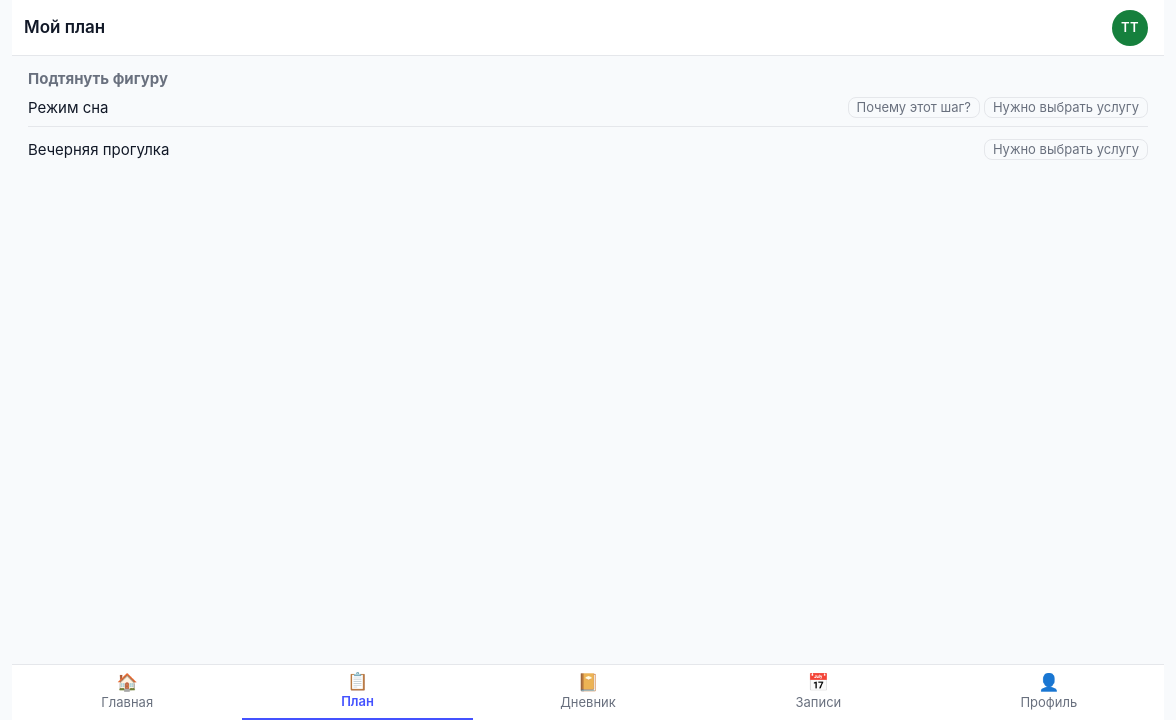
Test: «Мой план»: сохранённый план нового механизма › «Почему этот шаг?» раскрывает слова каталога — и только у шага, где они есть
This screenshot has width=1176, height=720.
Expected: the text "Помогает ложиться и вставать в одно время." is not shown
Click the button "Почему этот шаг?": (914, 108) x1=848 y1=97 x2=980 y2=118
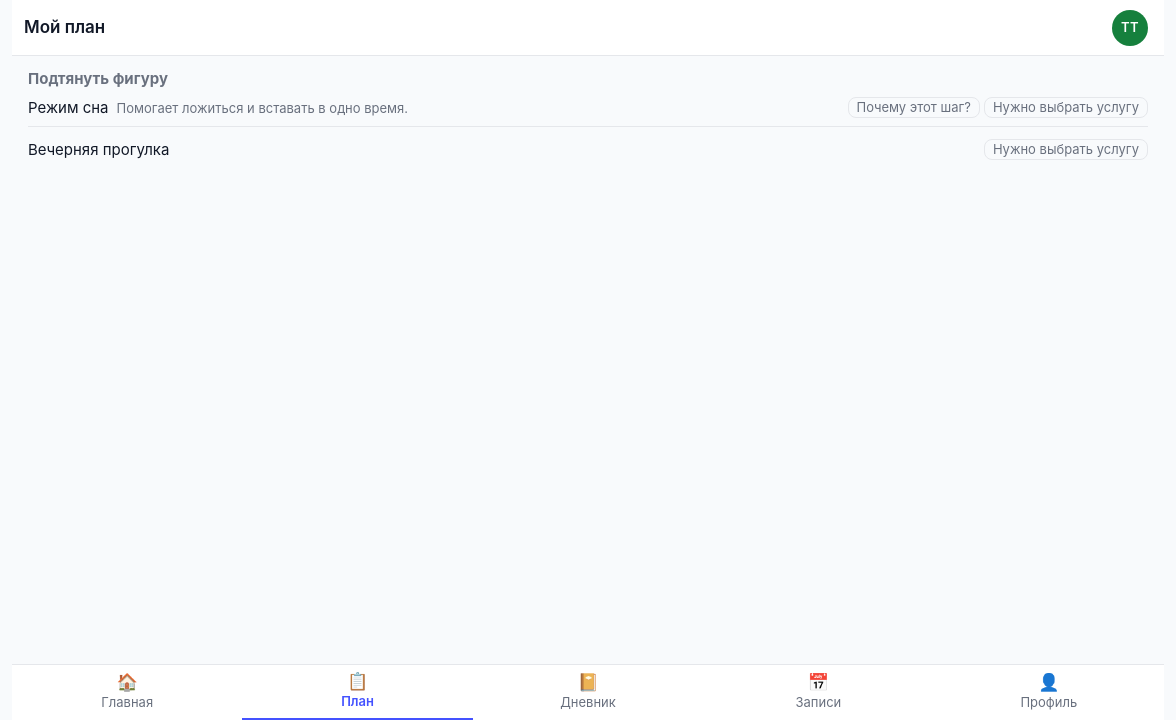
Expected: the text "Помогает ложиться и вставать в одно время." is shown, x1=116 y1=99 x2=408 y2=117
Click the button "Почему этот шаг?": (914, 108) x1=848 y1=97 x2=980 y2=118
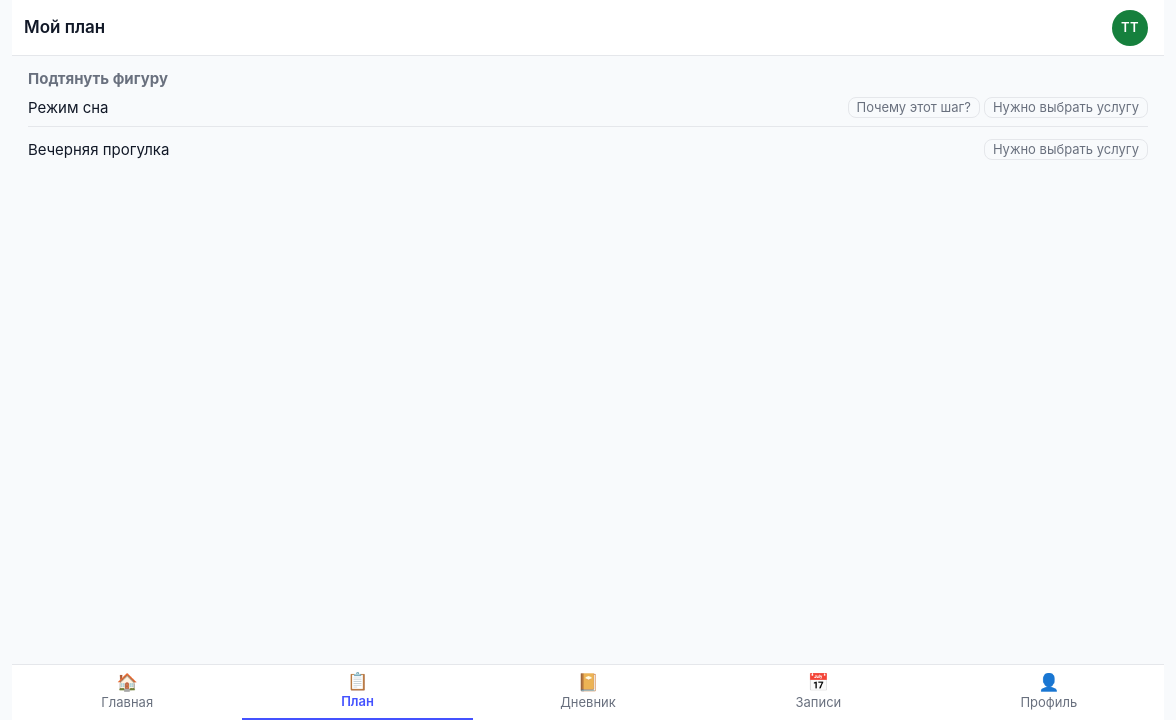
Expected: the text "Помогает ложиться и вставать в одно время." is gone
